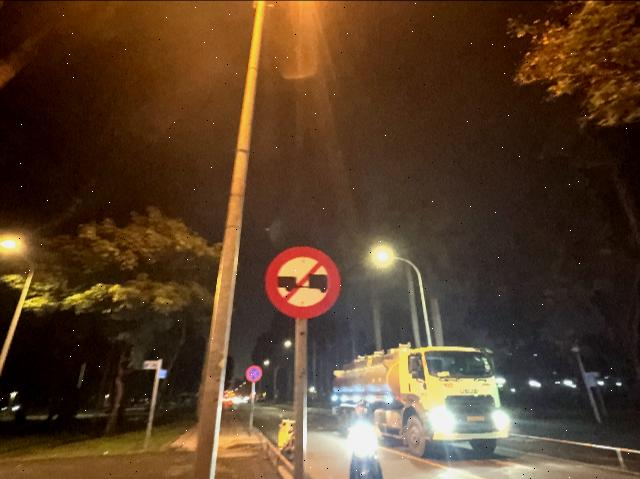cam-xe-somi-romooc: (264, 246, 342, 318)
